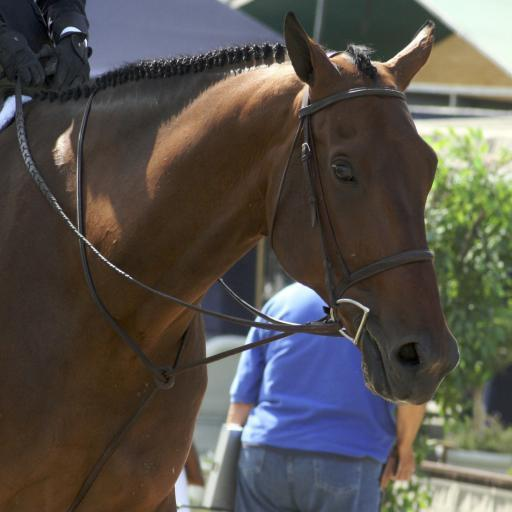horse: (0, 8, 462, 512)
